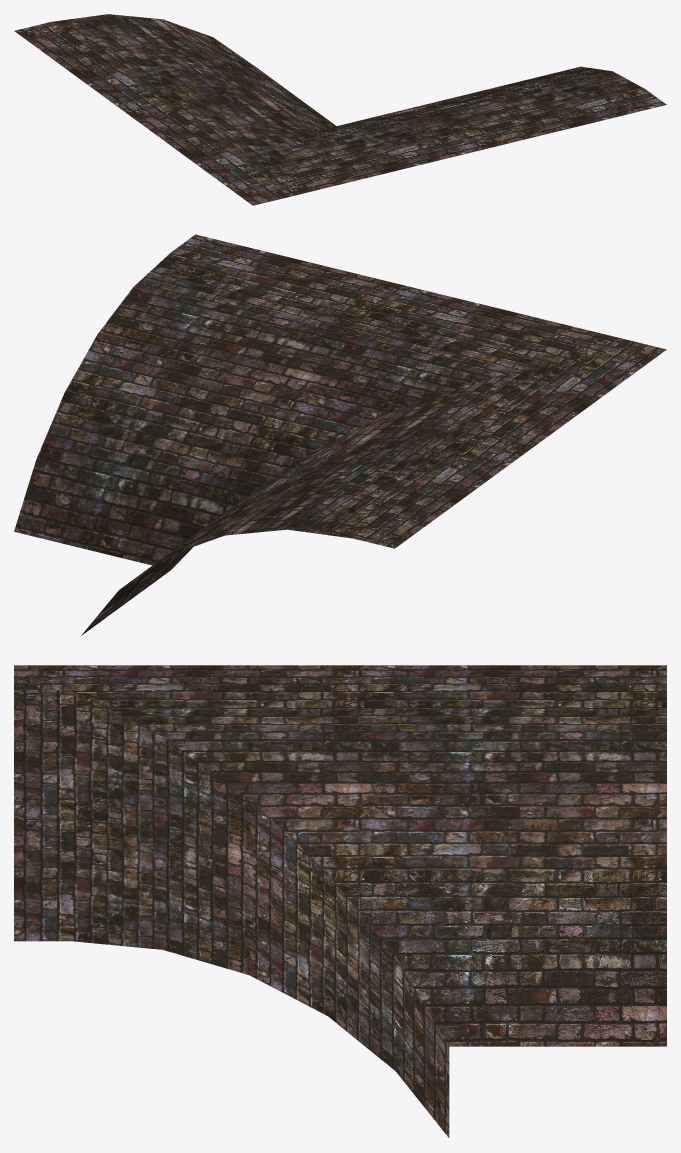
Rendered from ceiling01_corner_convex.DAE.
The picture shows the model from 3 angles, top to bottom: view 1: azimuth 30°, elevation 25°; view 2: azimuth 150°, elevation 25°; view 3: azimuth 270°, elevation 25°; orthographic projection. The views are drawn at different scales.
Parts seen in each view (by area): view 1: ceiling01_corner_convex; view 2: ceiling01_corner_convex; view 3: ceiling01_corner_convex.
Boxes of the visible parts, bbox=[...] form: ceiling01_corner_convex: bbox=[14, 14, 666, 205]; ceiling01_corner_convex: bbox=[14, 234, 666, 635]; ceiling01_corner_convex: bbox=[14, 665, 666, 1137].
Size of the model in its own units: 6 by 2 by 6.
